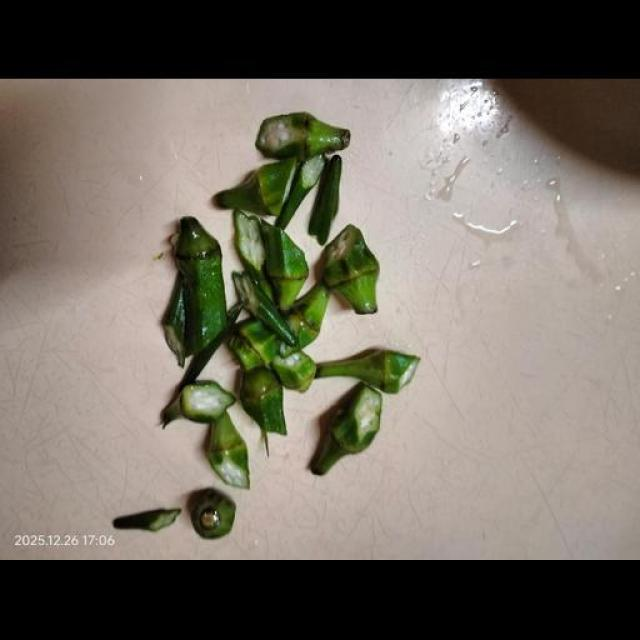organic: (163, 113, 419, 488), (163, 218, 241, 394), (162, 303, 242, 423), (229, 284, 328, 372), (175, 217, 226, 353), (312, 384, 382, 474), (229, 319, 314, 392), (179, 303, 242, 391), (323, 224, 379, 313), (233, 273, 297, 347), (215, 158, 296, 216), (317, 350, 419, 393), (255, 113, 349, 158), (262, 222, 308, 311), (275, 155, 324, 228), (332, 384, 382, 453), (233, 210, 272, 298), (207, 412, 249, 488), (164, 382, 234, 426), (240, 368, 286, 434), (308, 155, 342, 244), (287, 283, 329, 348), (229, 319, 279, 369), (290, 283, 328, 347), (163, 274, 188, 367), (257, 159, 296, 216), (192, 489, 236, 538), (182, 382, 234, 422), (233, 209, 264, 271), (333, 272, 378, 313), (175, 217, 219, 258), (272, 352, 316, 392), (238, 319, 277, 364), (113, 509, 181, 532), (312, 433, 348, 474), (228, 334, 263, 371), (299, 155, 326, 189), (169, 230, 179, 254), (153, 252, 164, 261)
